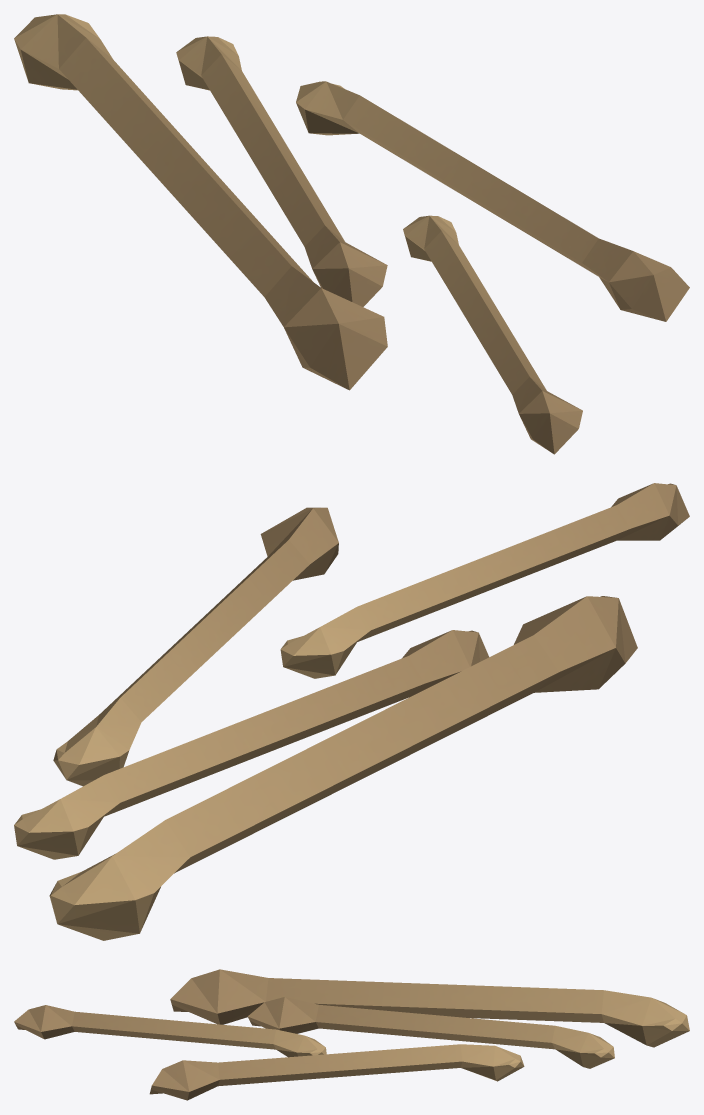
Rendered from Skull_2B.fbx.
3 renders of one model, top to bottom at view 1: azimuth 30°, elevation 25°; view 2: azimuth 150°, elevation 25°; view 3: azimuth 270°, elevation 25°, orthographic. The views are drawn at different scales.
Visible parts, largest first — view 1: polySurface1322; view 2: polySurface1322; view 3: polySurface1322.
Part boxes in pixels (box(x1,y1,x2,y2)): polySurface1322: box(14, 14, 689, 454); polySurface1322: box(14, 483, 689, 940); polySurface1322: box(14, 969, 689, 1100).
Bounding box in the file's own units: 1.15 × 0.2632 × 3.07.
